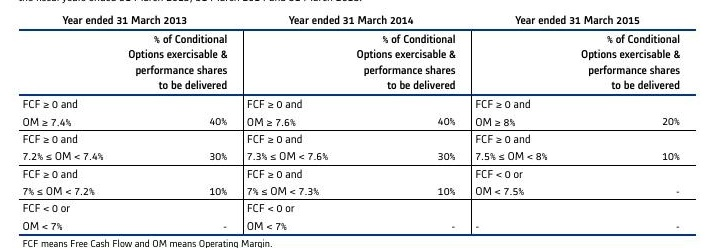table: (0, 0, 715, 248)
